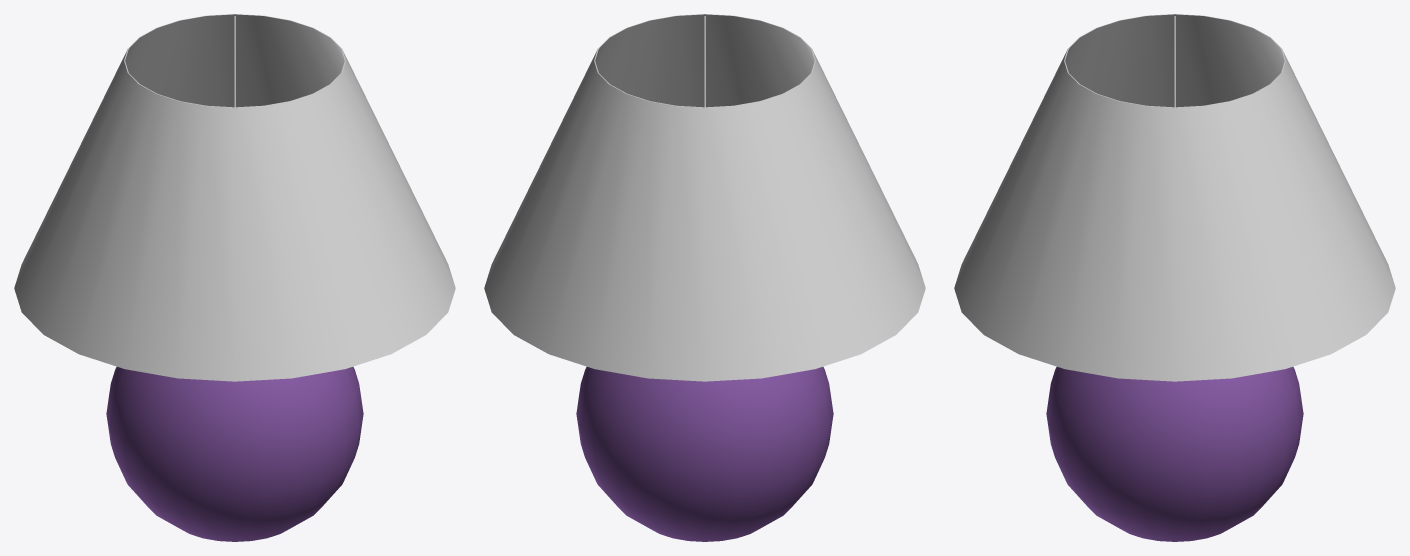
The model's file is Lamp.fbx.
3 views of the same model, side by side, from view 1: azimuth 30°, elevation 25°; view 2: azimuth 150°, elevation 25°; view 3: azimuth 270°, elevation 25° (orthographic).
Visible parts, largest first — view 1: Lamp; view 2: Lamp; view 3: Lamp.
Part boxes in pixels (left/top/right/bottom): Lamp: left=14, top=14, right=455, bottom=541; Lamp: left=484, top=14, right=925, bottom=541; Lamp: left=954, top=14, right=1395, bottom=541.
Bounding box in the file's own units: 4400 × 4990 × 4400.
